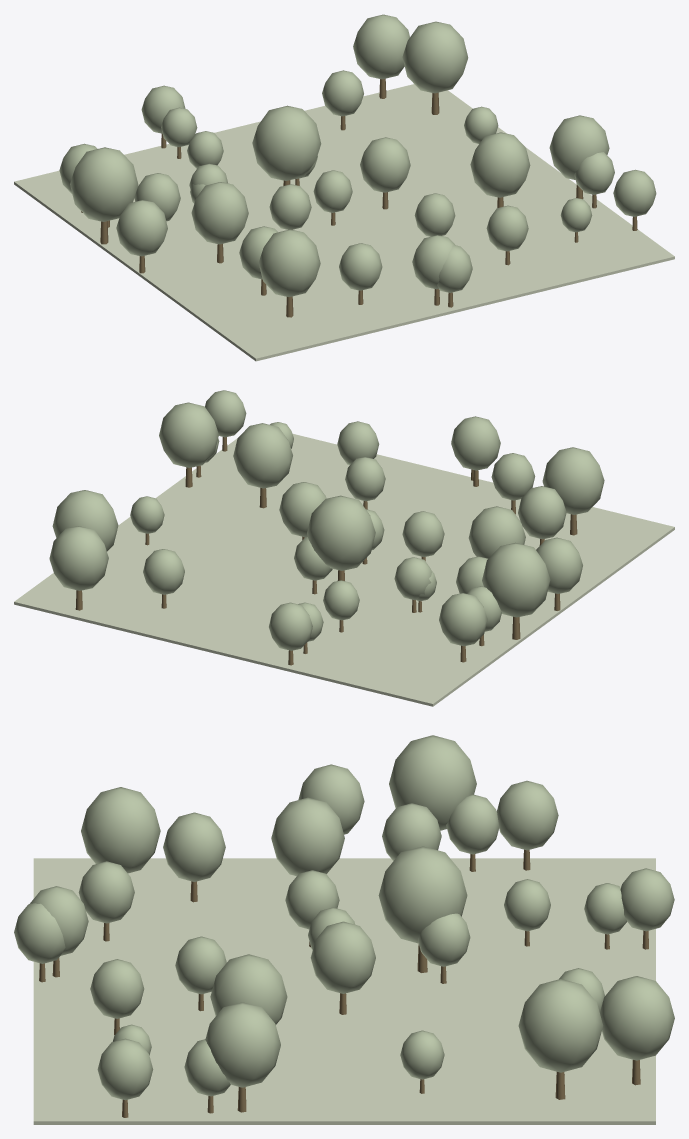
3 views of the same model, one above another, from view 1: azimuth 30°, elevation 25°; view 2: azimuth 150°, elevation 25°; view 3: azimuth 270°, elevation 25° (orthographic). The views are drawn at different scales.
Parts seen in each view (by area): view 1: terrain, lod-near-28, lod-near-27, lod-near-12, lod-near-31, lod-near-23, lod-near-5, lod-near-16, lod-near-19, lod-near-13, lod-near-30, lod-near-1 (+18 smaller); view 2: terrain, lod-near-28, lod-near-27, lod-near-19, lod-near-23, lod-near-5, lod-near-31, lod-near-12, lod-near-14, lod-near-16, lod-near-9, lod-near-26 (+15 smaller); view 3: terrain, lod-near-12, lod-near-28, lod-near-27, lod-near-31, lod-near-5, lod-near-19, lod-near-16, lod-near-30, lod-near-23, lod-near-26, lod-near-9 (+18 smaller).
Part boxes in pixels (x1,y1,x2,y2): terrain: (14,84,674,361); lod-near-28: (252,105,321,180); lod-near-27: (70,147,138,221); lod-near-12: (402,21,468,93); lod-near-31: (258,229,320,296); lod-near-23: (470,132,530,197); lod-near-5: (353,14,409,79); lod-near-16: (191,182,248,244); lod-near-19: (549,115,609,179); lod-near-13: (116,200,167,256); lod-near-30: (360,137,410,192); lod-near-1: (339,243,382,290); terrain: (14,434,674,706); lod-near-28: (307,495,375,570); lod-near-27: (482,542,550,617); lod-near-19: (159,402,218,467); lod-near-23: (233,423,292,488); lod-near-5: (49,526,108,590); lod-near-31: (542,447,604,514); lod-near-12: (52,490,118,551); lod-near-14: (451,416,500,470); lod-near-16: (468,506,525,558); lod-near-9: (439,593,487,646); lod-near-26: (518,486,566,539); terrain: (33,858,655,1124); lod-near-12: (518,979,603,1072); lod-near-28: (378,846,467,943); lod-near-27: (389,735,476,830); lod-near-31: (81,787,160,873); lod-near-5: (600,976,674,1060); lod-near-19: (205,1002,280,1087); lod-near-16: (271,797,344,876); lod-near-30: (310,921,375,993); lod-near-23: (210,954,287,1024); lod-near-26: (163,812,225,881); lod-near-9: (496,780,558,850).
Bounding box in the file's own units: 35.09 × 7.21 × 34.
